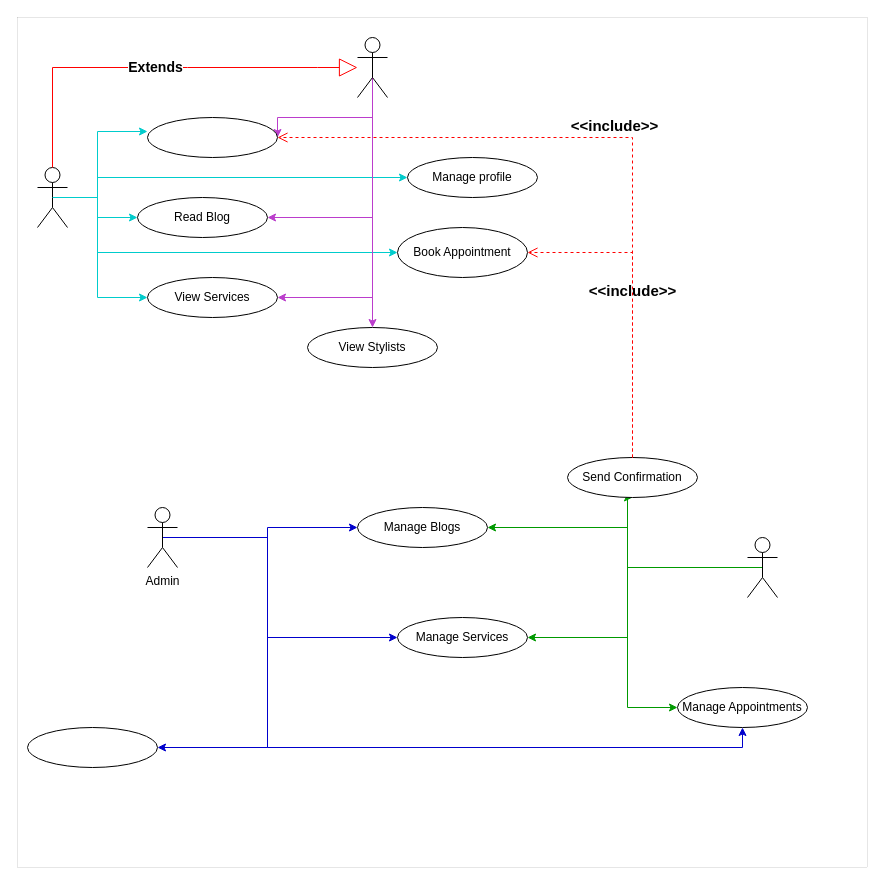
Some shapes in this 884 by 884 pixel diagram are drawn without their labels. Each missing label, with the box of its shape:
customer: (36, 166, 68, 228)
Manage Stylists: (26, 726, 158, 768)
Register/login: (146, 116, 278, 158)
Stylist: (746, 536, 778, 598)
visitor: (356, 36, 388, 98)
